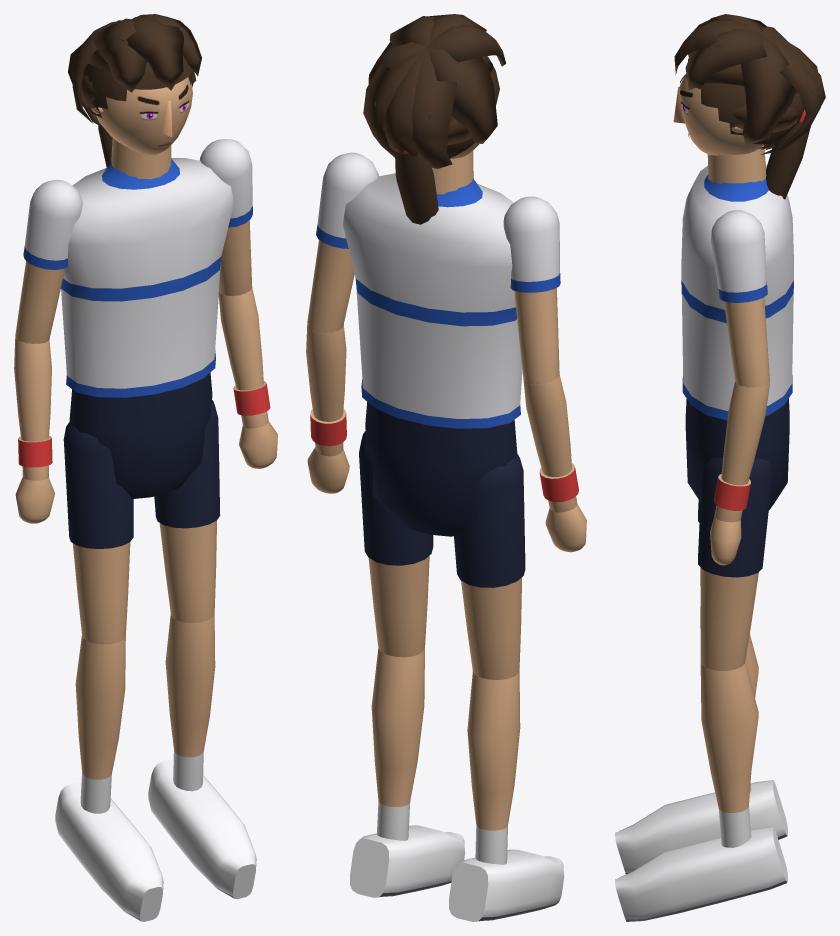
File: player.glb
3 renders of one model, left to right at view 1: azimuth 30°, elevation 25°; view 2: azimuth 150°, elevation 25°; view 3: azimuth 270°, elevation 25°, orthographic. The views are drawn at different scales.
Visible parts, largest first — view 1: torso, thigh.L, pelvis, thigh.R, hair_wave, shoe.L, shoe.R, shin.L, shin.R, upperarm.L, upperarm.R, forearm.L (+6 smaller); view 2: torso, hair_wave, pelvis, thigh.L, thigh.R, upperarm.L, shin.L, shin.R, upperarm.R, shoe.L, shoe.R, forearm.L (+5 smaller); view 3: torso, hair_wave, shoe.R, thigh.R, shin.R, upperarm.R, shoe.L, forearm.R, pelvis, hair_tied, head, neck (+2 smaller).
Boxes of the visible parts, <box> form: torso: <box>61,158,234,397</box>; thigh.L: <box>63,422,133,644</box>; pelvis: <box>69,372,212,498</box>; thigh.R: <box>154,400,220,622</box>; hair_wave: <box>68,14,201,127</box>; shoe.L: <box>55,781,163,921</box>; shoe.R: <box>148,758,256,899</box>; shin.L: <box>75,635,125,813</box>; shin.R: <box>165,614,215,791</box>; upperarm.L: <box>15,179,82,343</box>; upperarm.R: <box>199,139,252,296</box>; forearm.L: <box>14,337,52,480</box>; torso: <box>342,173,522,428</box>; hair_wave: <box>363,14,505,168</box>; pelvis: <box>365,402,517,536</box>; thigh.L: <box>454,453,525,679</box>; thigh.R: <box>359,431,433,657</box>; upperarm.L: <box>503,196,560,384</box>; shin.L: <box>467,670,520,864</box>; shin.R: <box>371,647,424,840</box>; upperarm.R: <box>307,152,378,332</box>; shoe.L: <box>449,849,564,921</box>; shoe.R: <box>350,825,465,897</box>; forearm.L: <box>523,374,578,512</box>; torso: <box>681,164,793,420</box>; hair_wave: <box>674,14,825,154</box>; shoe.R: <box>615,826,787,921</box>; thigh.R: <box>698,458,772,670</box>; shin.R: <box>700,661,758,847</box>; upperarm.R: <box>711,210,769,387</box>; shoe.L: <box>615,780,787,874</box>; forearm.R: <box>714,382,769,522</box>; pelvis: <box>685,399,789,510</box>; hair_tied: <box>705,64,810,199</box>; head: <box>673,74,764,155</box>; neck: <box>707,145,766,183</box>.
Size of the model in its own units: 0.6128 by 1.93 by 0.4214.
Materials: 2 (2 with a texture image).
